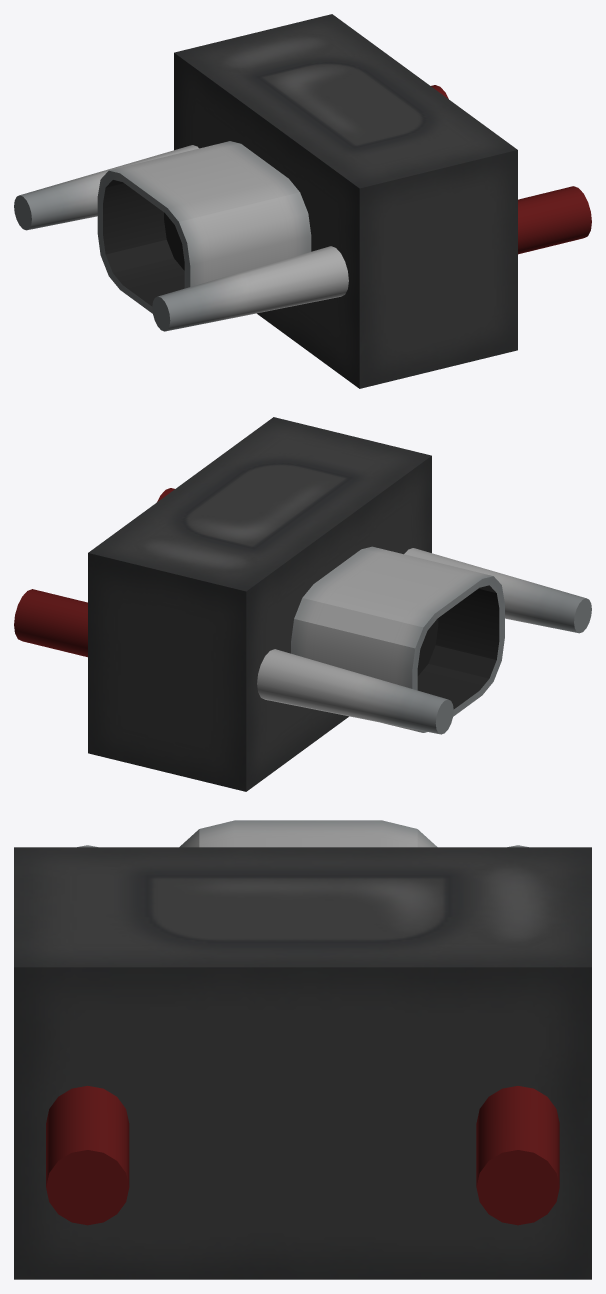
The model's file is Connector_03.fbx.
3 renders of one model, top to bottom at view 1: azimuth 30°, elevation 25°; view 2: azimuth 150°, elevation 25°; view 3: azimuth 270°, elevation 25°, orthographic. The views are drawn at different scales.
Parts seen in each view (by area): view 1: Connector_03; view 2: Connector_03; view 3: Connector_03.
Boxes of the visible parts, x1,y1,x2,y2 form: Connector_03: (14, 14, 591, 388); Connector_03: (14, 417, 591, 791); Connector_03: (14, 820, 591, 1279).
Bounding box in the file's own units: 1.57 × 0.7185 × 1.21.
